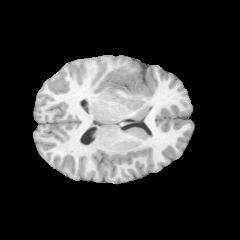glioma: (108, 65, 151, 100)
